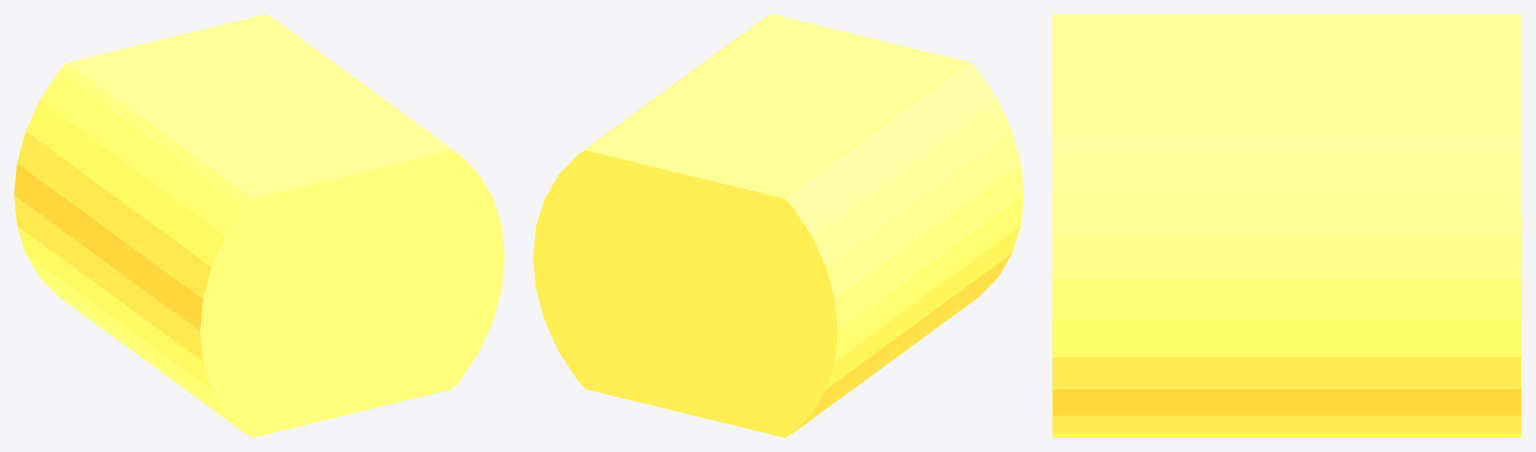
File: gearbox.dae
3 renders of one model, left to right at view 1: azimuth 30°, elevation 25°; view 2: azimuth 150°, elevation 25°; view 3: azimuth 270°, elevation 25°, orthographic. The views are drawn at different scales.
Parts seen in each view (by area): view 1: shoulder; view 2: shoulder; view 3: shoulder.
Part boxes in pixels (box(x1,y1,x2,y2)): shoulder: box(14, 14, 504, 437); shoulder: box(533, 14, 1023, 437); shoulder: box(1052, 14, 1521, 437).
Size of the model in its own units: 0.0444 by 0.047 by 0.0333.
